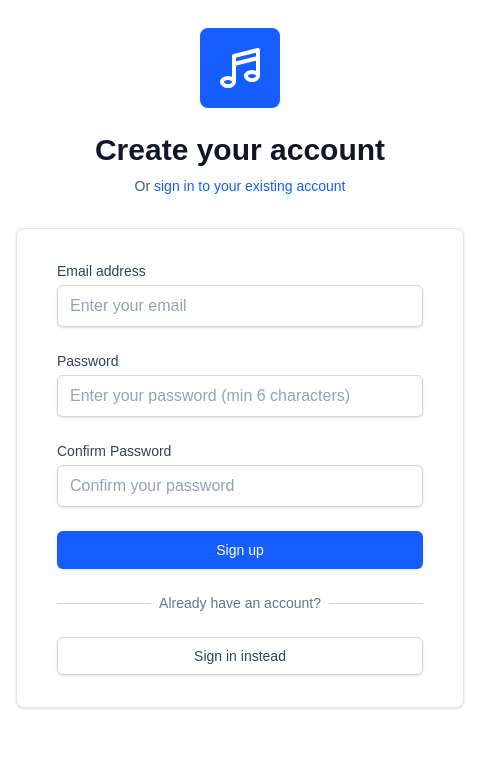
Test: SignUpPage › should show error when password is too short
Type "test@example.com" into the field labelled "Email address" at [240, 306], box x1=57 y1=285 x2=423 y2=327
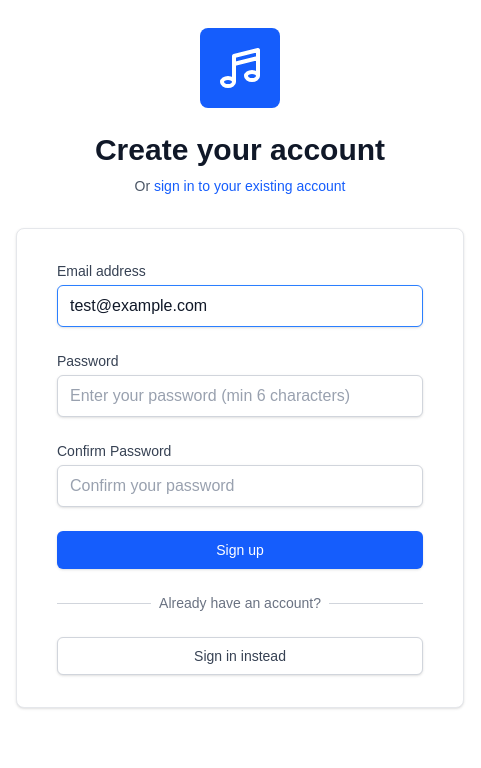
Type "12345" into the password field labelled "Password" at [240, 396], box x1=57 y1=375 x2=423 y2=417
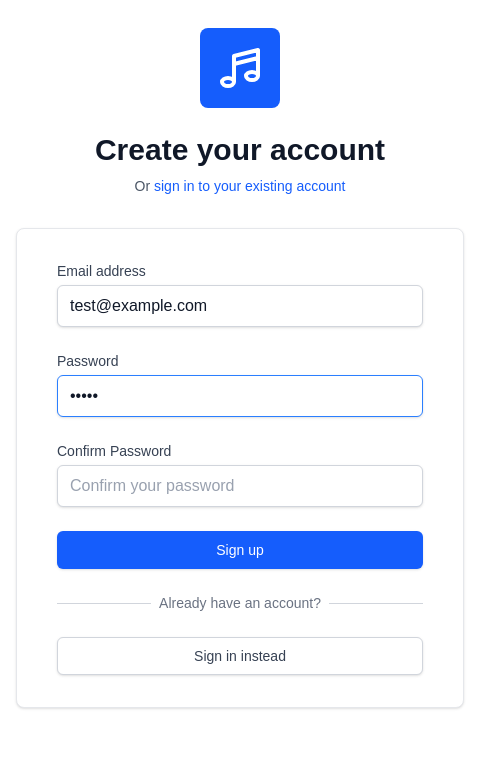
Type "12345" into the password field labelled "Confirm Password" at [240, 486], box x1=57 y1=465 x2=423 y2=507
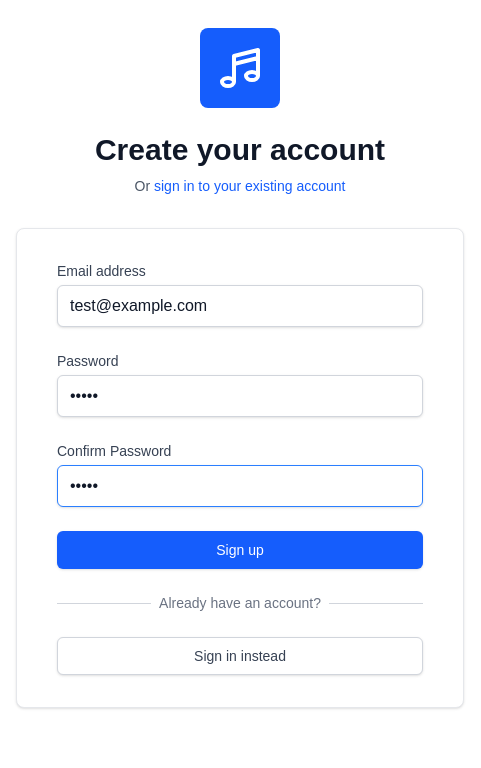
Click the button "Sign up" at [240, 550], box x1=57 y1=531 x2=423 y2=569
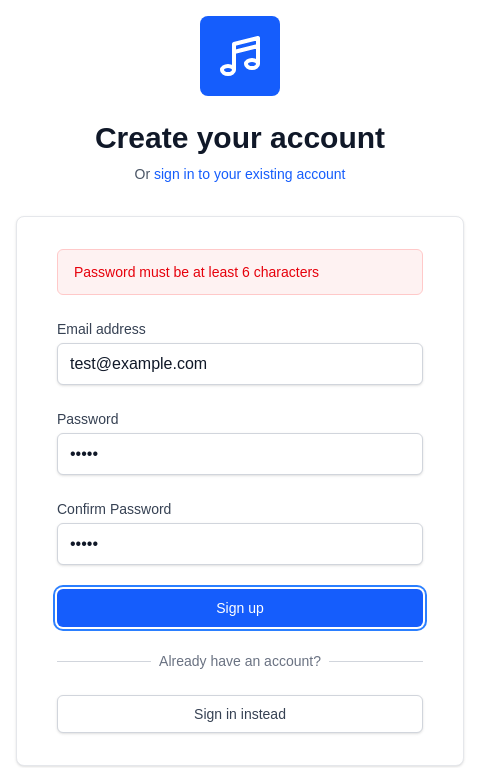
Now the text "Password must be at least 6 characters" is shown, box x1=57 y1=249 x2=423 y2=295
